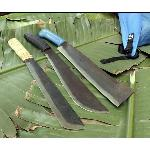Golok: (42, 29, 138, 111), (21, 28, 112, 114), (7, 35, 87, 129)
